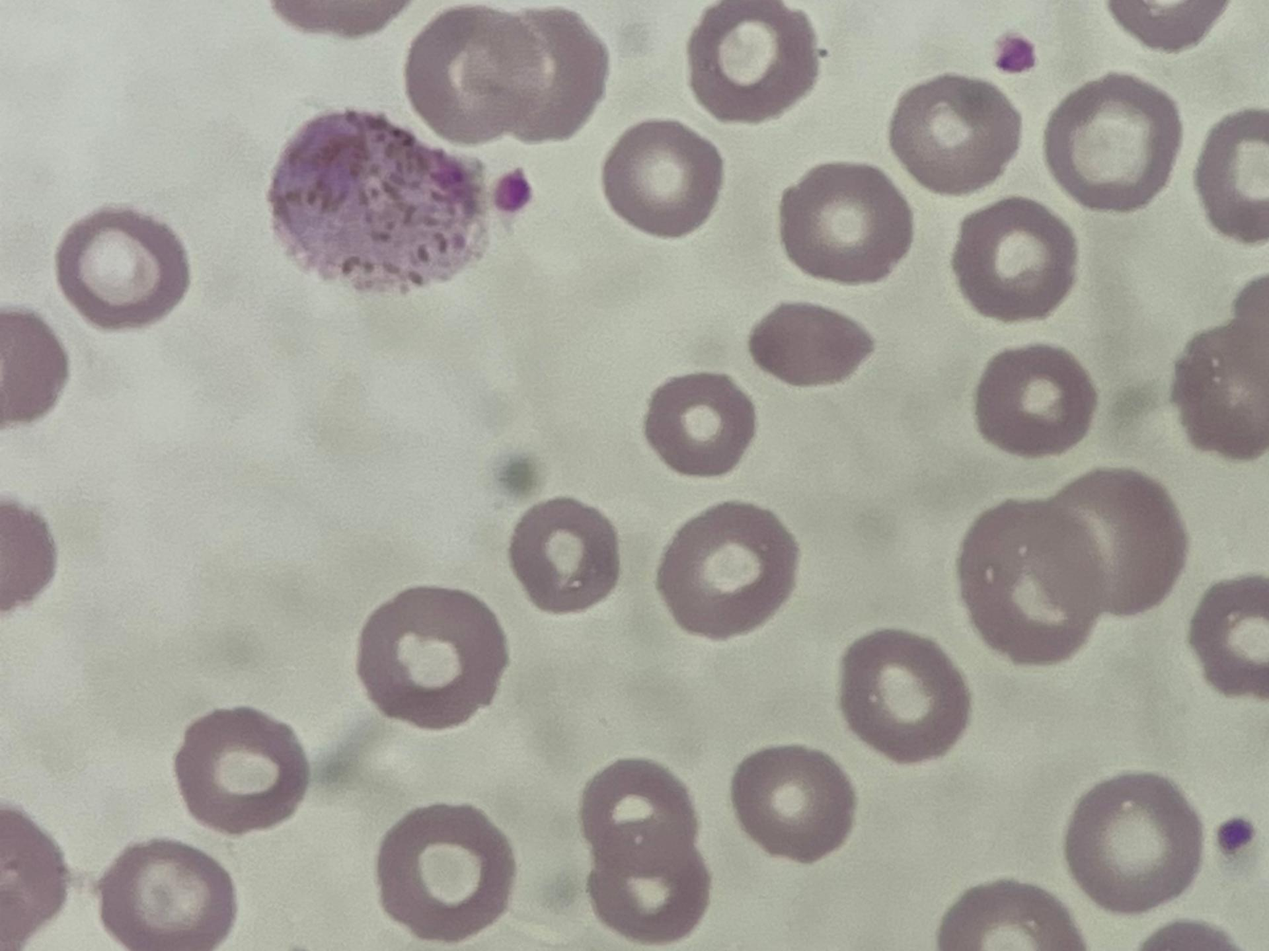Infected: (269, 113, 489, 296)
Uninfected: (576, 762, 707, 941), (960, 503, 1102, 656), (356, 588, 508, 729), (1046, 472, 1184, 620), (405, 3, 545, 145), (375, 803, 518, 941), (658, 502, 797, 636), (1065, 775, 1200, 910), (1044, 75, 1178, 211), (685, 0, 820, 129), (174, 708, 307, 835), (839, 631, 968, 761), (778, 159, 912, 284), (54, 206, 190, 328), (889, 73, 1022, 194), (951, 199, 1076, 321), (601, 120, 726, 239), (98, 840, 235, 948), (730, 745, 853, 861), (498, 10, 607, 139), (972, 344, 1095, 457), (507, 498, 622, 612), (642, 373, 755, 477), (749, 301, 872, 389), (1196, 106, 1267, 239), (1188, 577, 1268, 695), (935, 882, 1079, 946), (1183, 346, 1269, 448)
